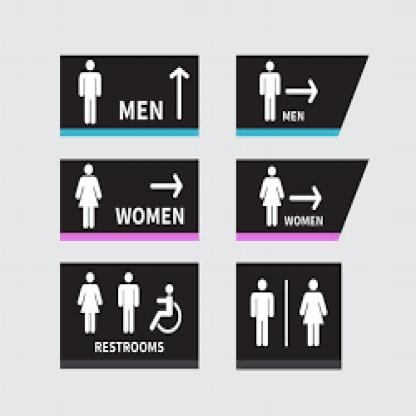toilet: (245, 271, 331, 351), (76, 265, 144, 337)
